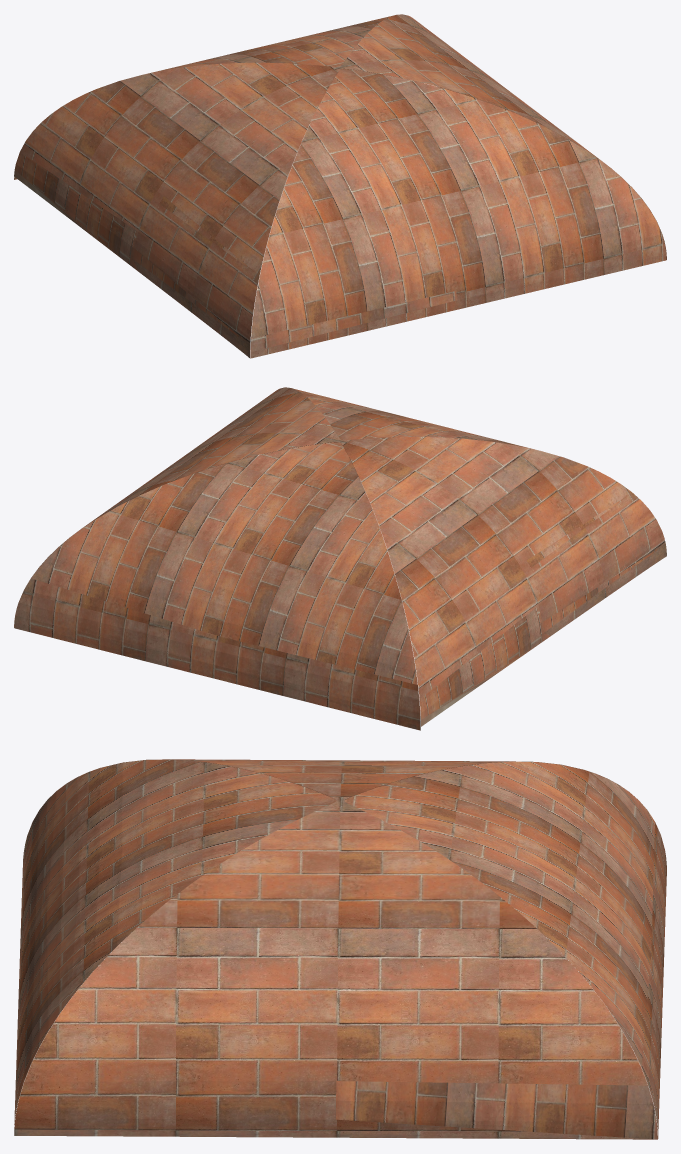
File: voltaStanzino.glb
The picture shows the model from 3 angles, top to bottom: view 1: azimuth 30°, elevation 25°; view 2: azimuth 150°, elevation 25°; view 3: azimuth 270°, elevation 25°; orthographic projection. The views are drawn at different scales.
Parts seen in each view (by area): view 1: voltaStanzino; view 2: voltaStanzino; view 3: voltaStanzino.
Boxes of the visible parts, left/top/right/bottom form: voltaStanzino: left=14, top=14, right=666, bottom=358; voltaStanzino: left=14, top=387, right=666, bottom=730; voltaStanzino: left=14, top=759, right=666, bottom=1139.
Bounding box in the file's own units: 3.32 × 1.15 × 3.36.
1 material, 1 textured.
